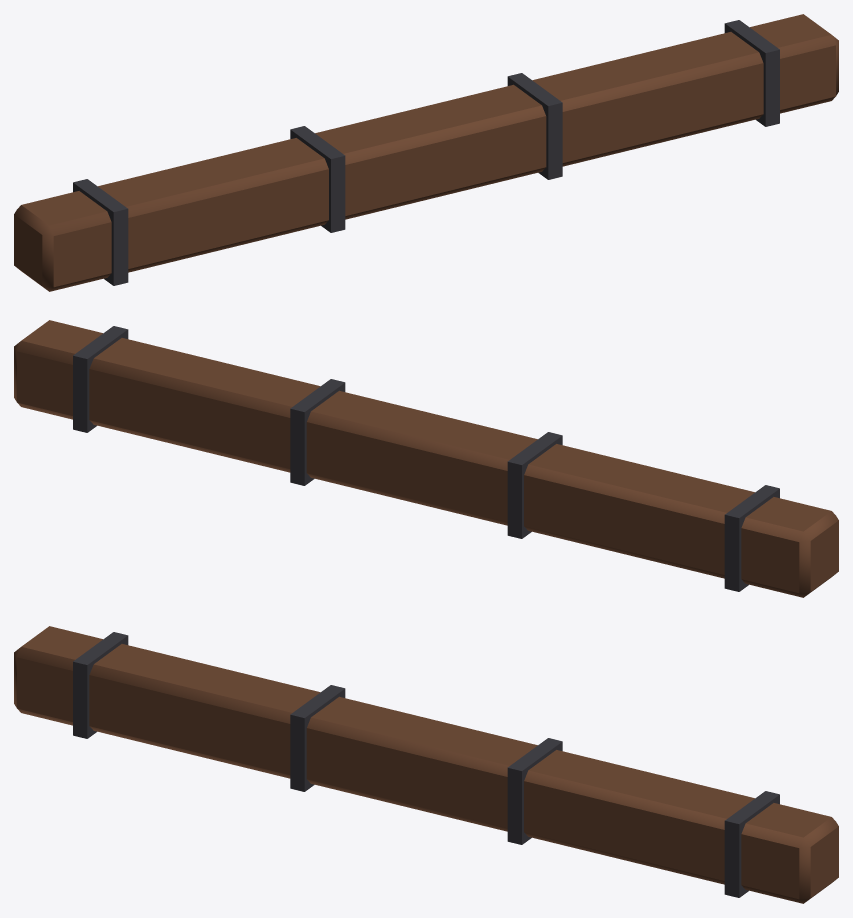
File: tide_beam.glb
3 renders of one model, top to bottom at view 1: azimuth 30°, elevation 25°; view 2: azimuth 150°, elevation 25°; view 3: azimuth 330°, elevation 25°, orthographic.
Visible parts, largest first — view 1: tide_beam; view 2: tide_beam; view 3: tide_beam.
Part boxes in pixels (bbox=[...]): tide_beam: bbox=[14, 14, 838, 291]; tide_beam: bbox=[14, 320, 838, 597]; tide_beam: bbox=[14, 626, 838, 903].
Size of the model in its own units: 4.4 by 0.39 by 0.39.
